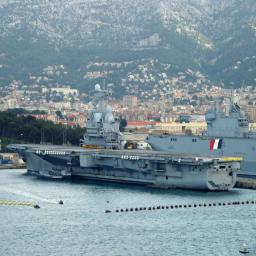Portanaves: (7, 63, 243, 197)
